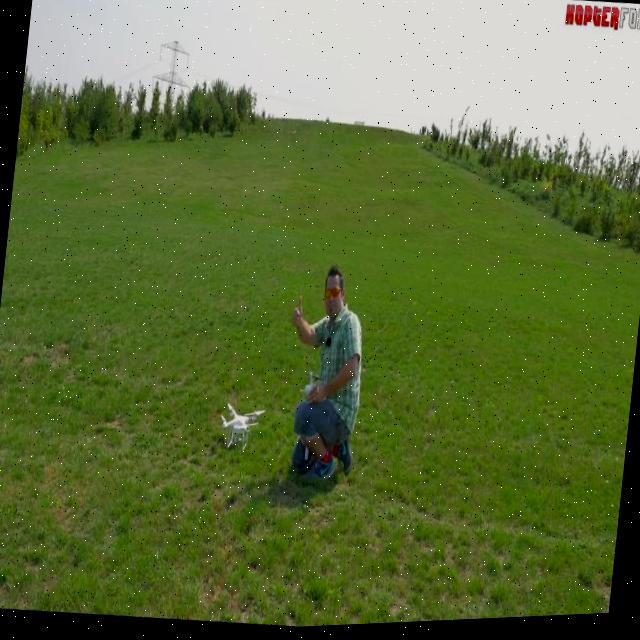drone: (216, 400, 266, 454)
